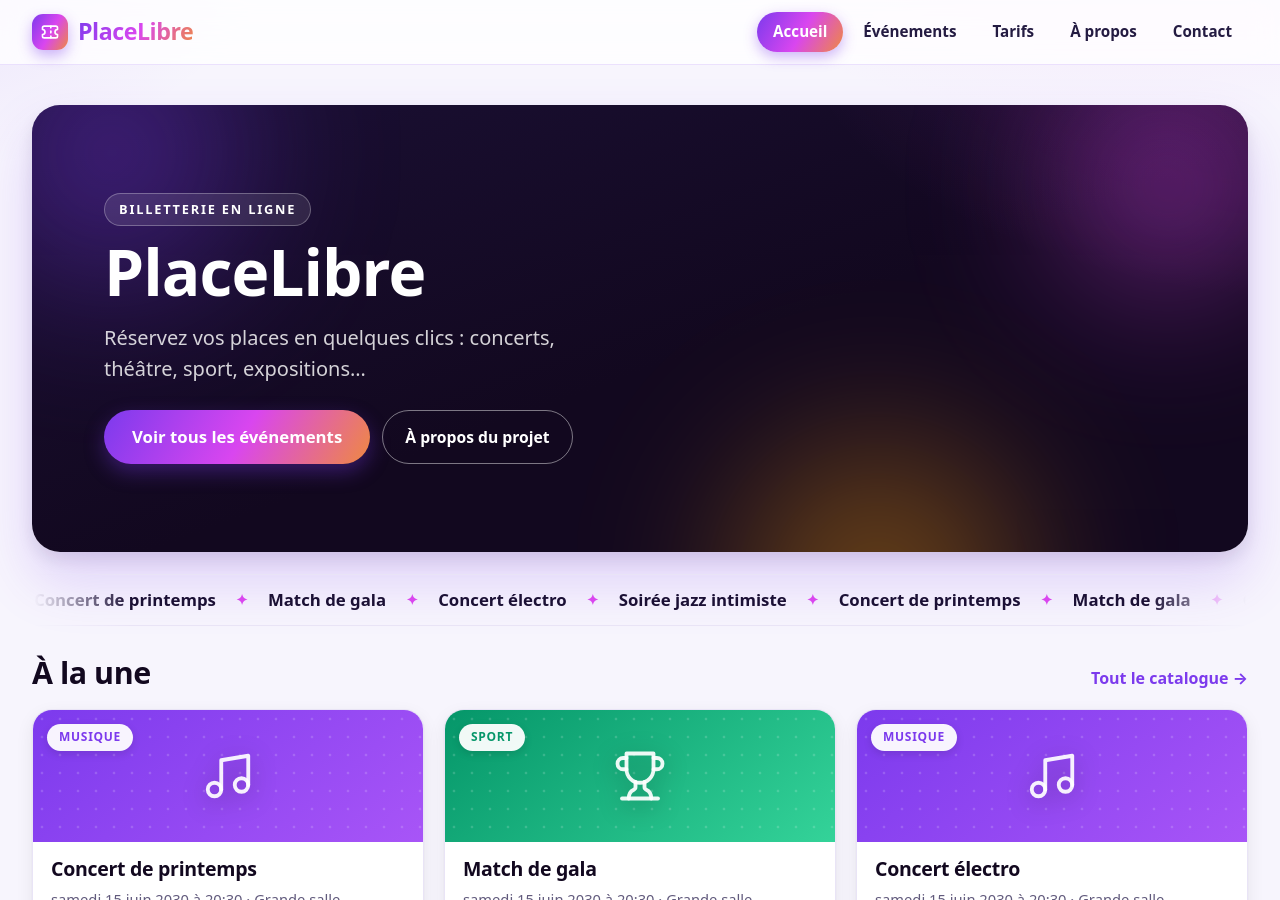
Test: page d'accueil (/) › met en avant les 4 prochains événements et mène au catalogue
This screenshot has width=1280, height=900.
Expected: the heading "PlaceLibre" is shown, [104,236,1176,308]
Expected: the link "Concert de printemps" is shown, [51,855,257,882]
Click the link "Voir tous les événements" at (237, 437), box [104,410,370,464]
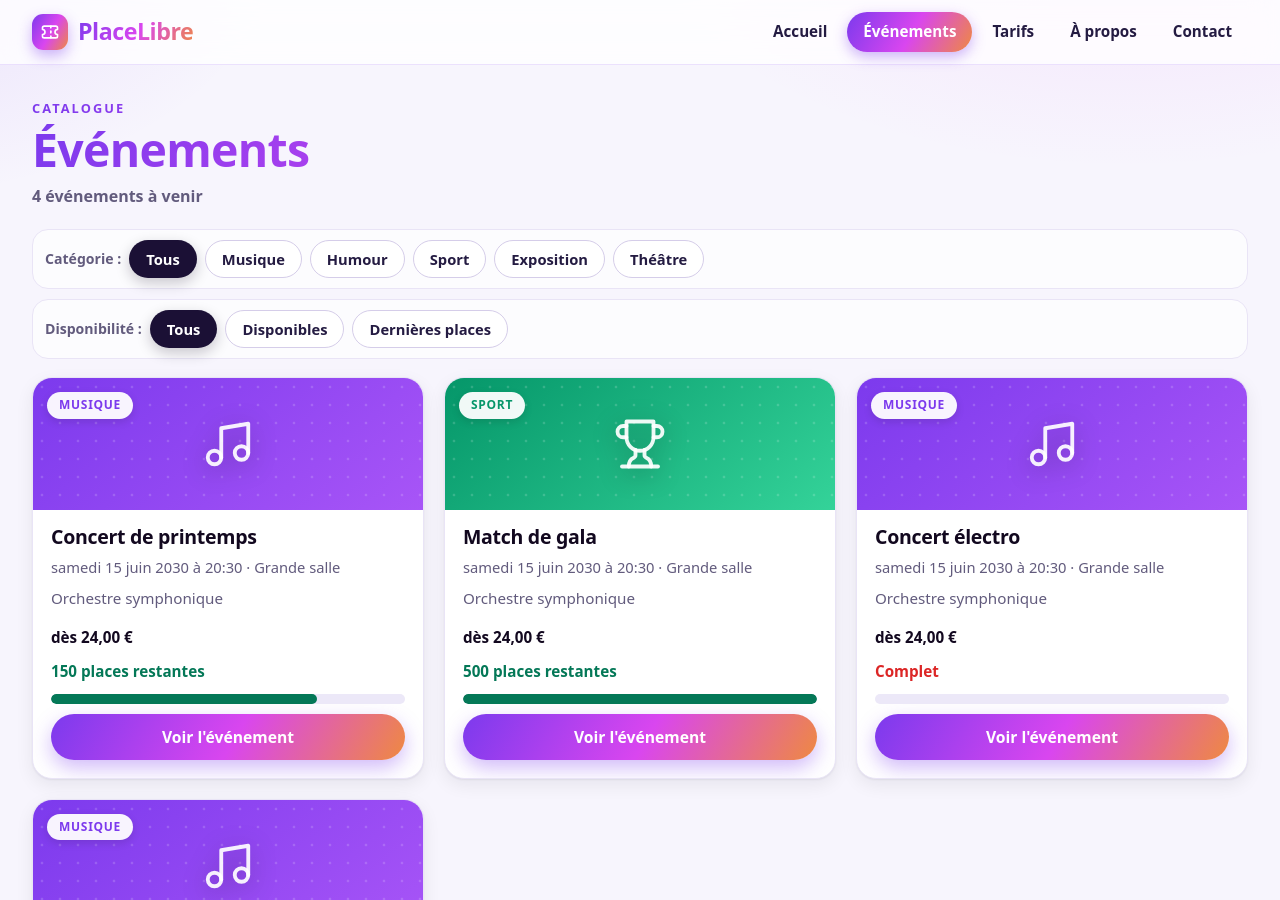
Now the heading "Événements" is shown, box [32,124,1248,176]
Now the text "4 événements à venir" is shown, box [32,185,203,207]
